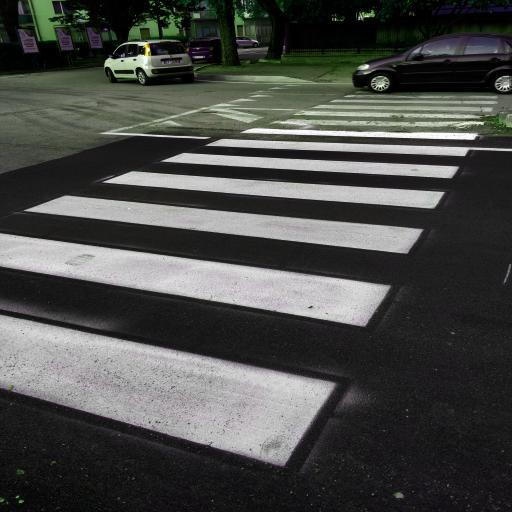crosswalk: (22, 166, 458, 264), (202, 125, 482, 160)
